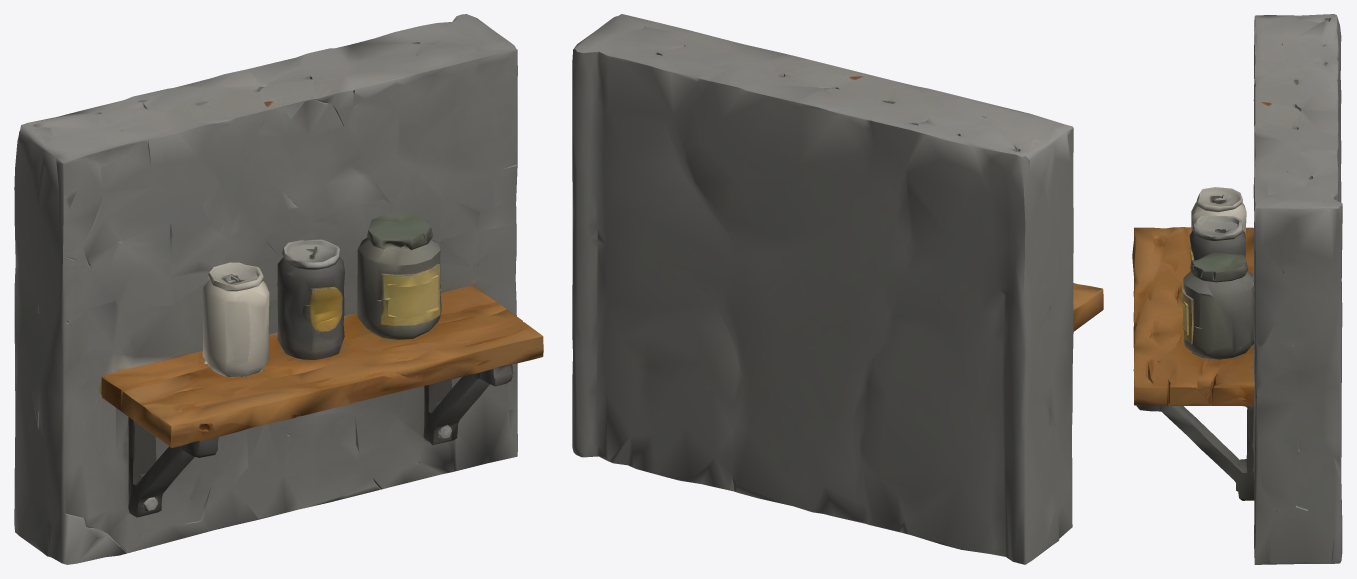
File: wall_shelf_idle.glb
The picture shows the model from 3 angles, left to right: view 1: azimuth 30°, elevation 25°; view 2: azimuth 150°, elevation 25°; view 3: azimuth 270°, elevation 25°; orthographic projection. The views are drawn at different scales.
Visible parts, largest first — view 1: tripo_node_8badd4f0-a0f9-49cd-b875-d39b3df715ee; view 2: tripo_node_8badd4f0-a0f9-49cd-b875-d39b3df715ee; view 3: tripo_node_8badd4f0-a0f9-49cd-b875-d39b3df715ee.
Part boxes in pixels (<box>): tripo_node_8badd4f0-a0f9-49cd-b875-d39b3df715ee: <box>14,14,543,564</box>; tripo_node_8badd4f0-a0f9-49cd-b875-d39b3df715ee: <box>572,14,1103,564</box>; tripo_node_8badd4f0-a0f9-49cd-b875-d39b3df715ee: <box>1132,14,1342,564</box>.
Size of the model in its own units: 0.4083 by 0.35 by 0.1852.
1 material, 1 textured.
